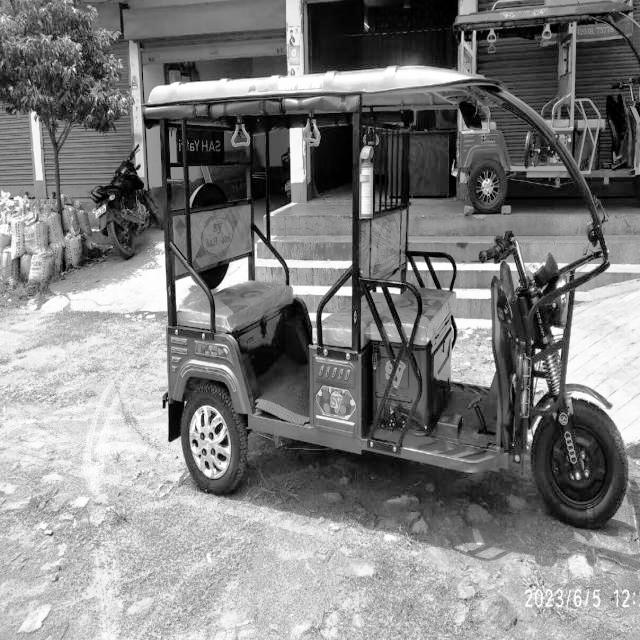Toto: (142, 58, 618, 525), (454, 0, 640, 211)
